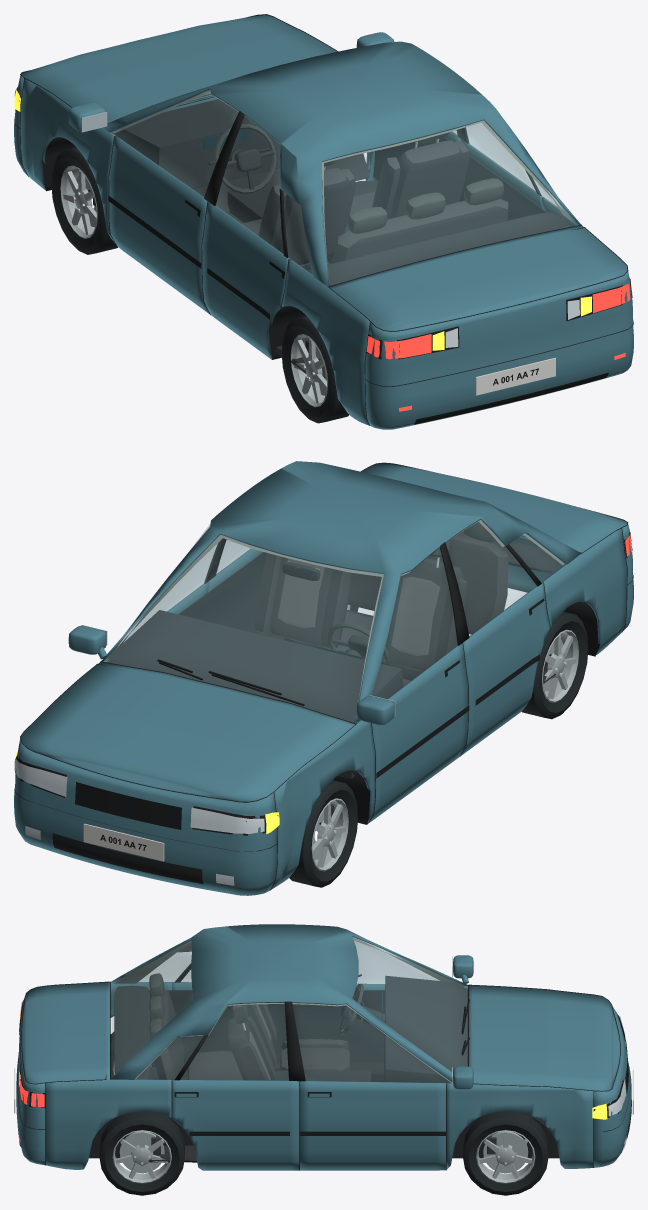
The model's file is DS_Sedan_A_Traffic.fbx.
The picture shows the model from 3 angles, top to bottom: view 1: azimuth 30°, elevation 25°; view 2: azimuth 150°, elevation 25°; view 3: azimuth 270°, elevation 25°; orthographic projection. The views are drawn at different scales.
Parts seen in each view (by area): view 1: Roof, Glass_Rear, Bumper_Rear, Trunk, Hood, Door_Front_L, Door_Rear_L, Dashboard, Glass_Front_L, Fender_Rear_L, Glass_Rear_L, Fender_Front_L (+27 smaller); view 2: Glass_Windshield, Hood, Roof, Bumper_Front, Dashboard, Door_Front_L, Door_Rear_L, Glass_Front_L, Trunk, Fender_Front_L, Fender_Rear_L, Glass_Rear_L (+28 smaller); view 3: Roof, Hood, Door_Front_R, Door_Rear_R, Glass_Windshield, Trunk, Glass_Front_R, Dashboard, Fender_Front_R, Fender_Rear_R, Glass_Rear, Glass_Rear_R (+32 smaller).
Boxes of the visible parts, left/top/right/bottom form: Roof: left=103, top=41, right=581, bottom=286; Glass_Rear: left=322, top=120, right=578, bottom=285; Bumper_Rear: left=365, top=271, right=633, bottom=429; Trunk: left=329, top=225, right=627, bottom=331; Hood: left=21, top=15, right=337, bottom=122; Door_Front_L: left=109, top=136, right=209, bottom=313; Door_Rear_L: left=202, top=201, right=289, bottom=359; Dashboard: left=112, top=99, right=280, bottom=189; Glass_Front_L: left=112, top=90, right=238, bottom=196; Fender_Rear_L: left=282, top=259, right=369, bottom=425; Glass_Rear_L: left=216, top=116, right=282, bottom=253; Fender_Front_L: left=20, top=78, right=115, bottom=242; Glass_Windshield: left=103, top=534, right=383, bottom=722; Hood: left=21, top=662, right=354, bottom=801; Roof: left=101, top=461, right=581, bottom=723; Bumper_Front: left=14, top=738, right=277, bottom=895; Dashboard: left=107, top=610, right=403, bottom=778; Door_Front_L: left=368, top=643, right=468, bottom=823; Door_Rear_L: left=461, top=582, right=550, bottom=755; Glass_Front_L: left=372, top=548, right=457, bottom=698; Trunk: left=361, top=463, right=627, bottom=552; Fender_Front_L: left=271, top=720, right=375, bottom=889; Fender_Rear_L: left=542, top=528, right=626, bottom=654; Glass_Rear_L: left=446, top=520, right=536, bottom=635; Roof: left=110, top=924, right=467, bottom=1082; Hood: left=469, top=985, right=619, bottom=1090; Door_Front_R: left=300, top=1080, right=446, bottom=1170; Door_Rear_R: left=172, top=1079, right=299, bottom=1170; Glass_Windshield: left=352, top=937, right=467, bottom=1071; Trunk: left=22, top=982, right=109, bottom=1083; Glass_Front_R: left=292, top=1003, right=451, bottom=1082; Dashboard: left=384, top=975, right=469, bottom=1125; Fender_Front_R: left=446, top=1083, right=593, bottom=1169; Fender_Rear_R: left=46, top=1079, right=171, bottom=1169; Glass_Rear: left=111, top=939, right=193, bottom=1078; Glass_Rear_R: left=181, top=1003, right=288, bottom=1080.
Bounding box in the file's own units: 208 × 443 × 149.
